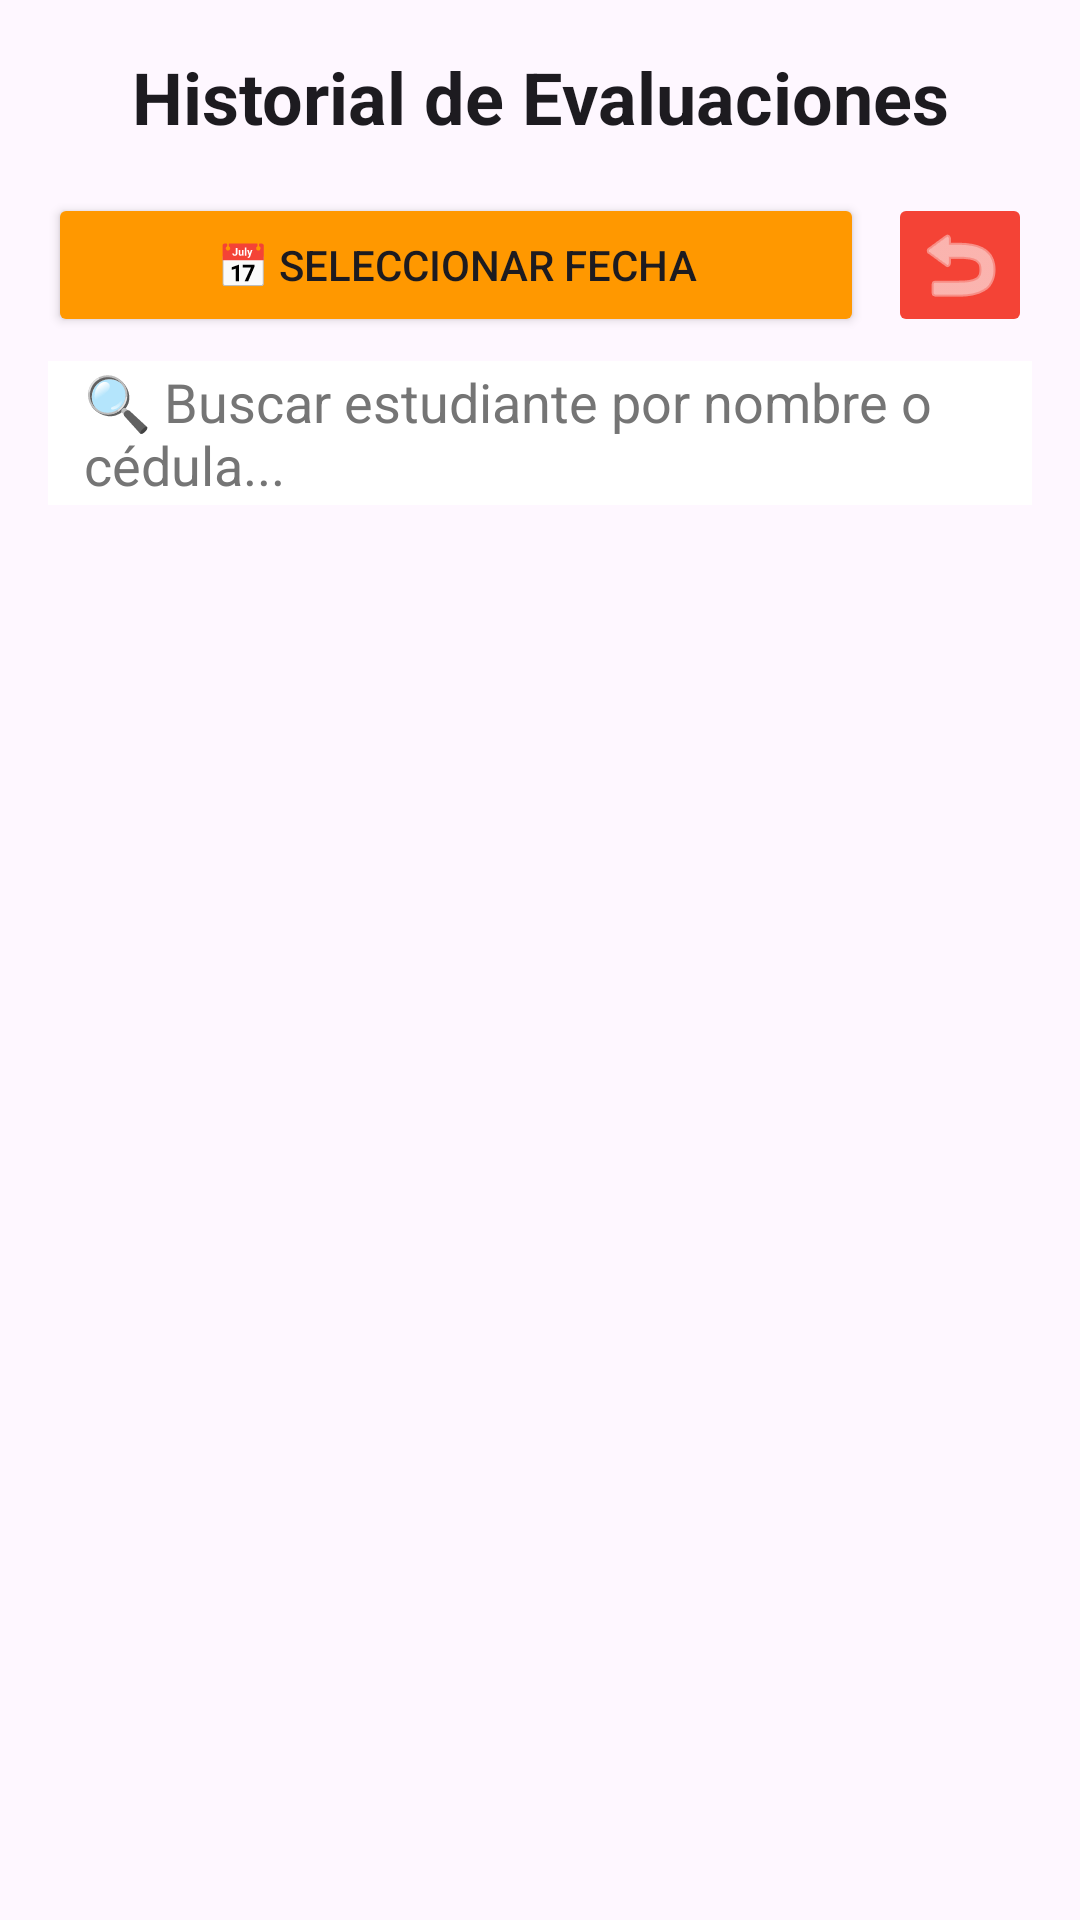

Where icons sit on this 1080px×1920px app screen, as [x1=x1, y1=y1, x2=x2, y2=y2]:
revert: [x1=900, y1=211, x2=1020, y2=319]
